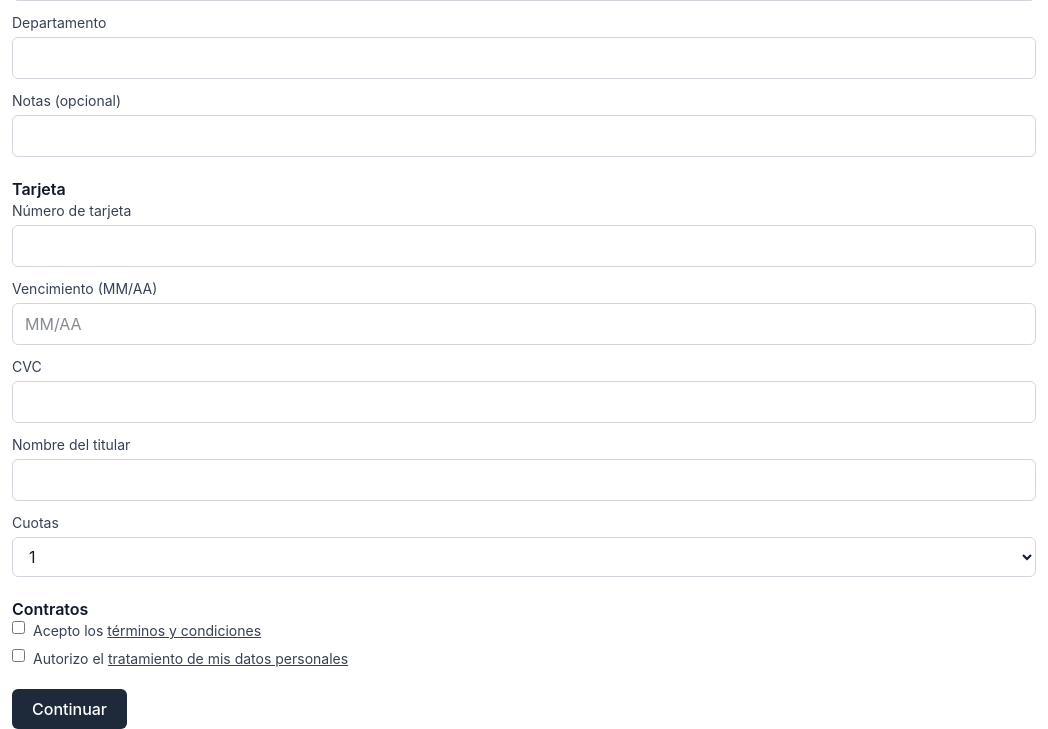
Test: CardAndDeliveryForm › shows inline validation errors when submitting empty and never tokenizes
(page scrolled)
Click the button "Continuar": (70, 709) [12,689,127,728]
(page scrolled)
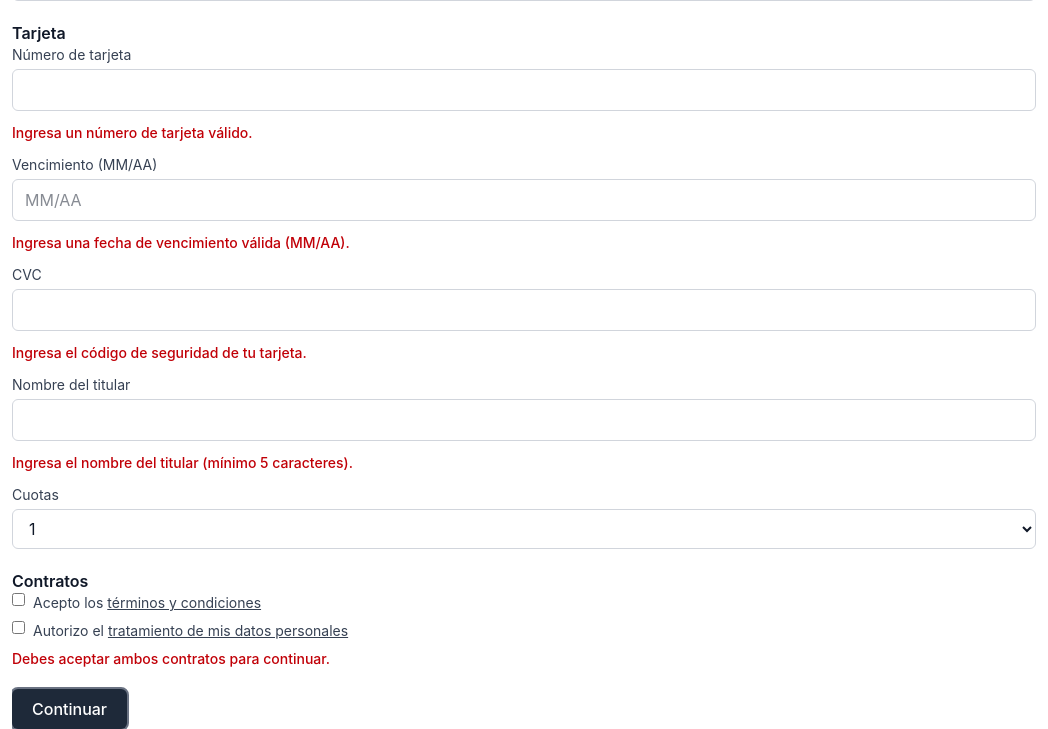
Expected: the text "Ingresa un número de tarjeta válido." is shown, [12,124,252,141]
